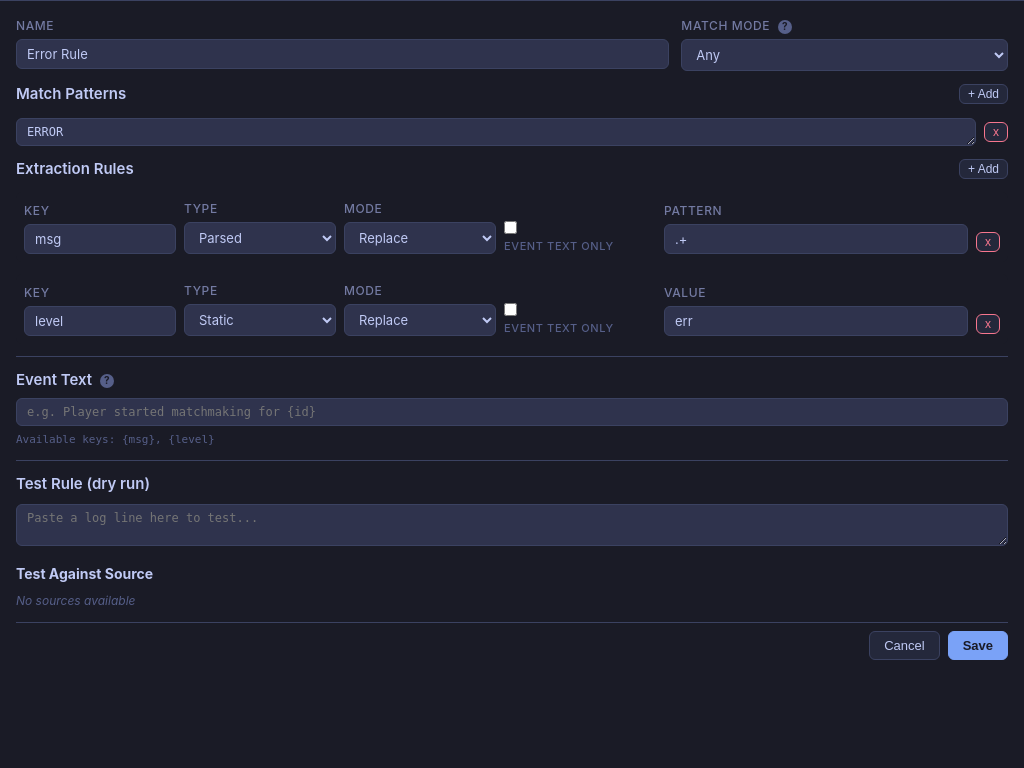
it: RuleEditor › removes an extraction rule row
Click the second "x" which is the first extraction rule remove
Click the 2nd button "x".
click(988, 242)  # box [976,232,1000,252]
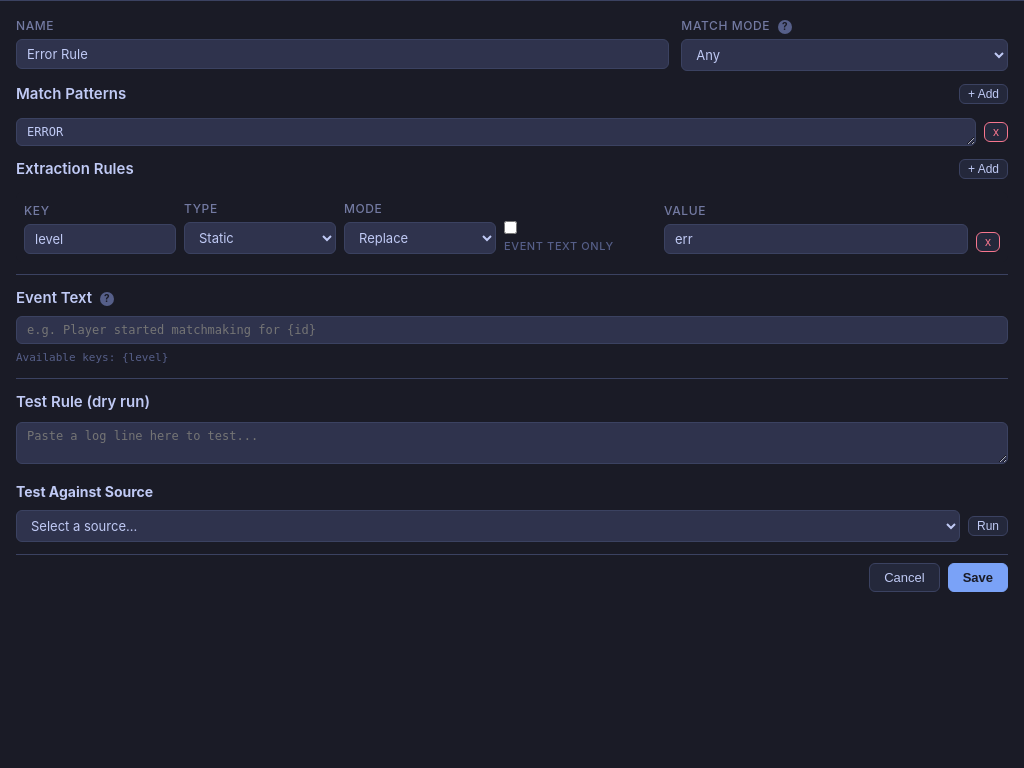
Check: the text showing "msg" is gone
Check: the 2nd field showing "level" is shown, box [24,224,176,254]
